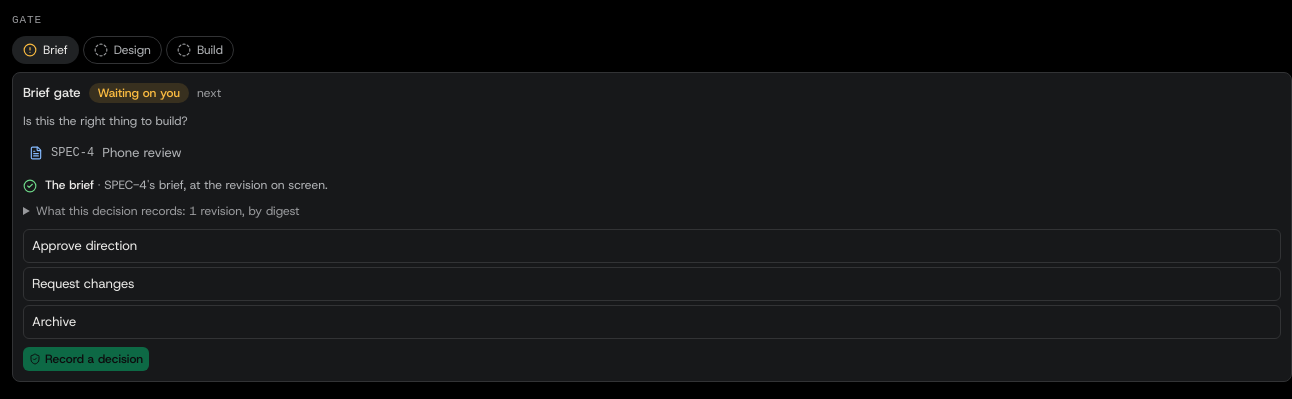
Test: the gate card › says which gate is next, what it covers and what the other two still need
The width and height of the screenshot is (1292, 399).
Click the tab "Design" at (122, 50), box top-left (83, 36), bottom-right (162, 64)
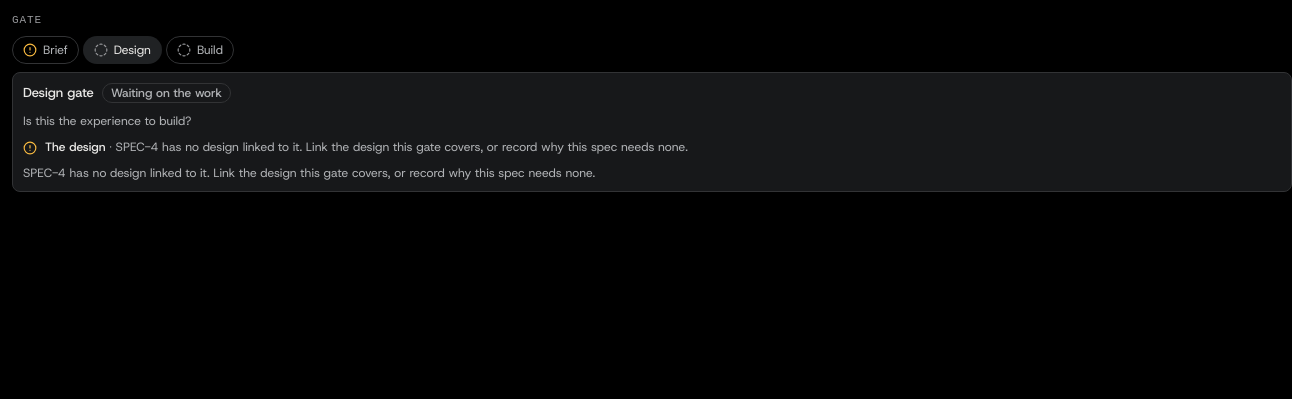
Now the text "has no design linked to it" is shown, box top-left (116, 139), bottom-right (688, 155)
